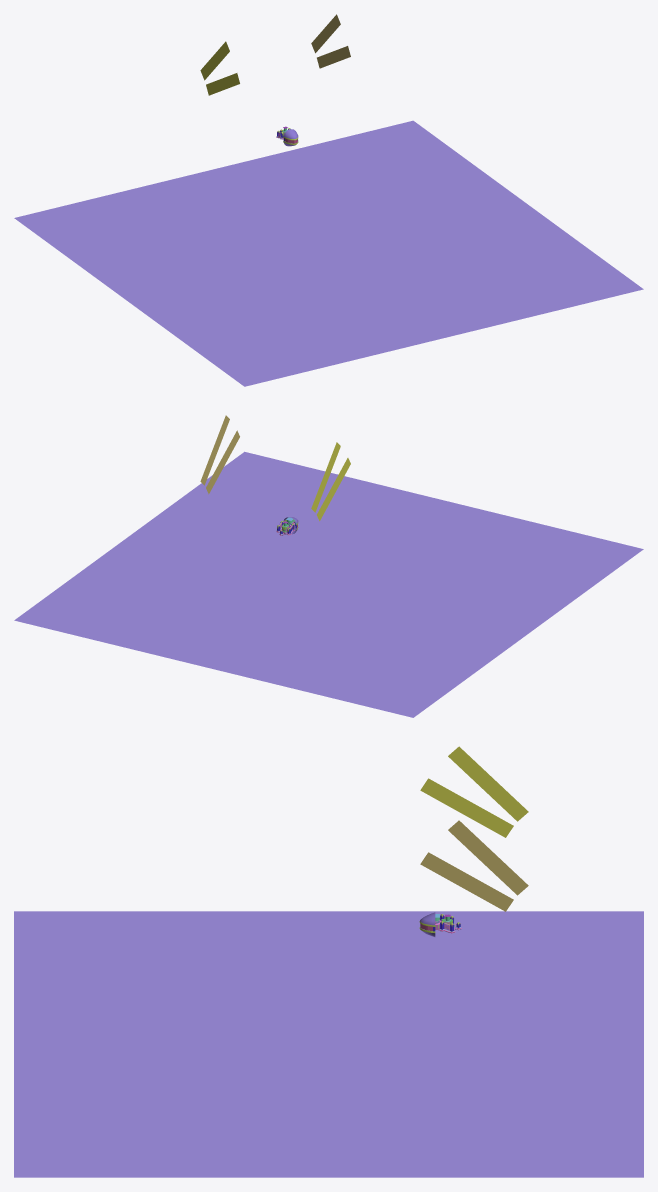
The model's file is gemini_props.fbx.
3 renders of one model, top to bottom at view 1: azimuth 30°, elevation 25°; view 2: azimuth 150°, elevation 25°; view 3: azimuth 270°, elevation 25°, orthographic. The views are drawn at different scales.
Visible parts, largest first — view 1: cluster_18; view 2: cluster_18; view 3: cluster_18.
Boxes of the visible parts, x1,y1,x2,y2 form: cluster_18: (14,14,643,386); cluster_18: (14,415,643,717); cluster_18: (14,746,643,1177).
Size of what is drawn, in the model's own units: 6791689 by 3106977 by 6791688.
